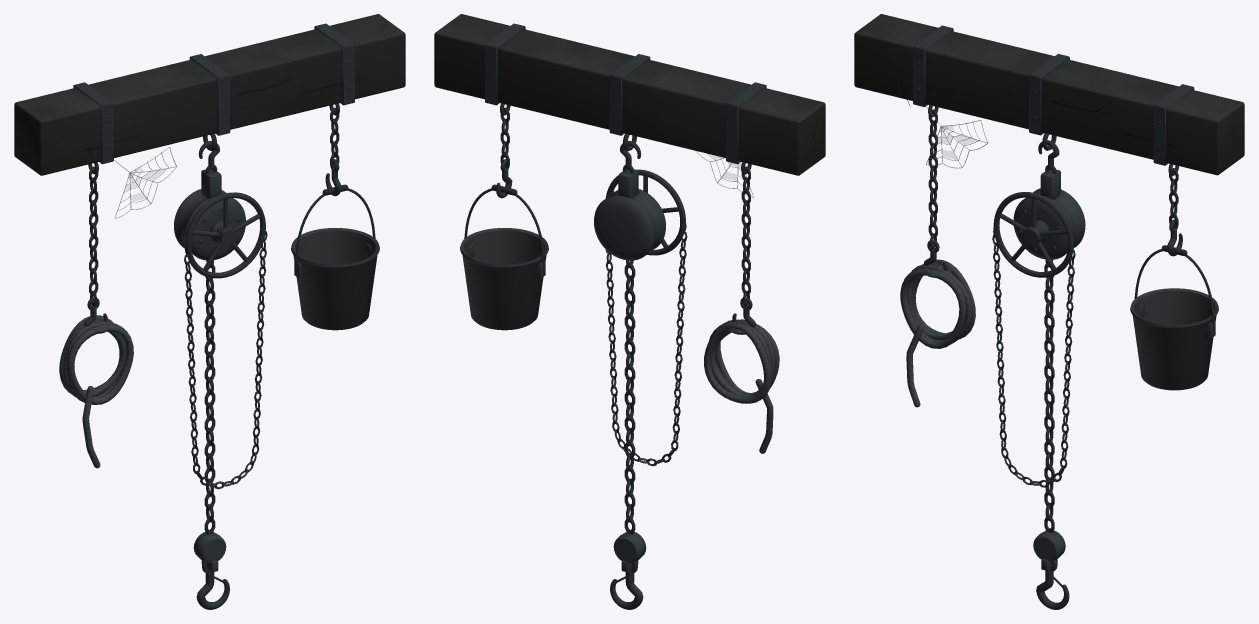
The model's file is chains-and-hooks.glb.
3 renders of one model, left to right at view 1: azimuth 30°, elevation 25°; view 2: azimuth 150°, elevation 25°; view 3: azimuth 330°, elevation 25°, orthographic.
Parts seen in each view (by area): view 1: chains-and-hooks_body, chains-and-hooks_web; view 2: chains-and-hooks_body; view 3: chains-and-hooks_body, chains-and-hooks_web.
Boxes of the visible parts, x1=… form: chains-and-hooks_body: x1=14, y1=14, x2=405, y2=609; chains-and-hooks_web: x1=114, y1=147, x2=176, y2=218; chains-and-hooks_body: x1=434, y1=14, x2=825, y2=609; chains-and-hooks_body: x1=854, y1=14, x2=1244, y2=609; chains-and-hooks_web: x1=926, y1=107, x2=987, y2=168.
Size of the model in its own units: 1.32 by 1.88 by 0.278.
Materials: 3 (1 with a texture image).
